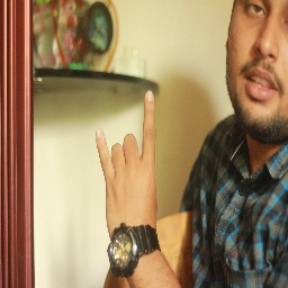V: (92, 84, 166, 234)
